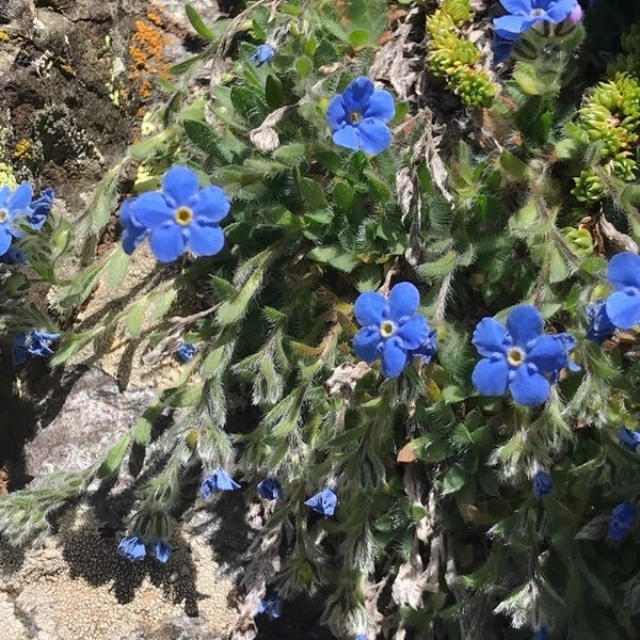obstacle: (119, 51, 607, 439)
